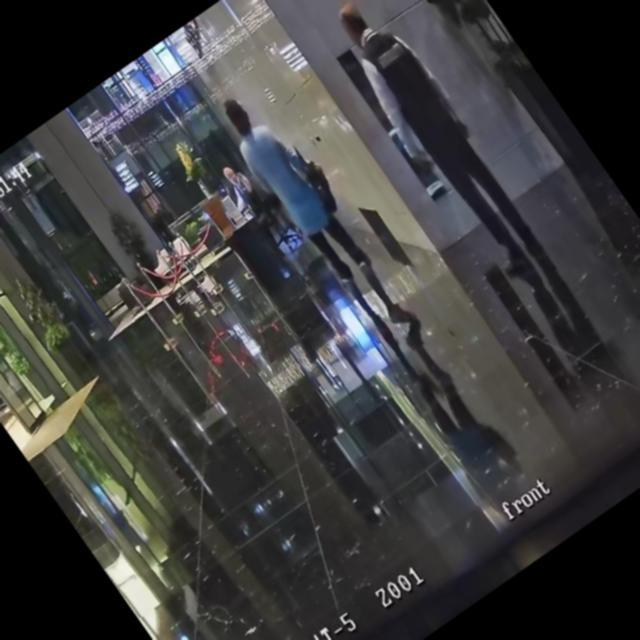person: (315, 0, 557, 285), (208, 80, 420, 351), (214, 159, 268, 221)
